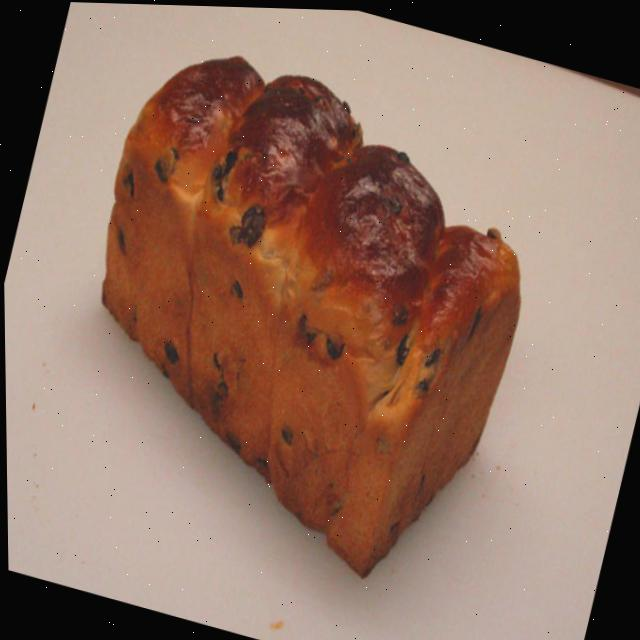面包点心: (13, 3, 576, 588)
